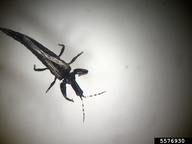Thrips: (1, 22, 87, 126)
